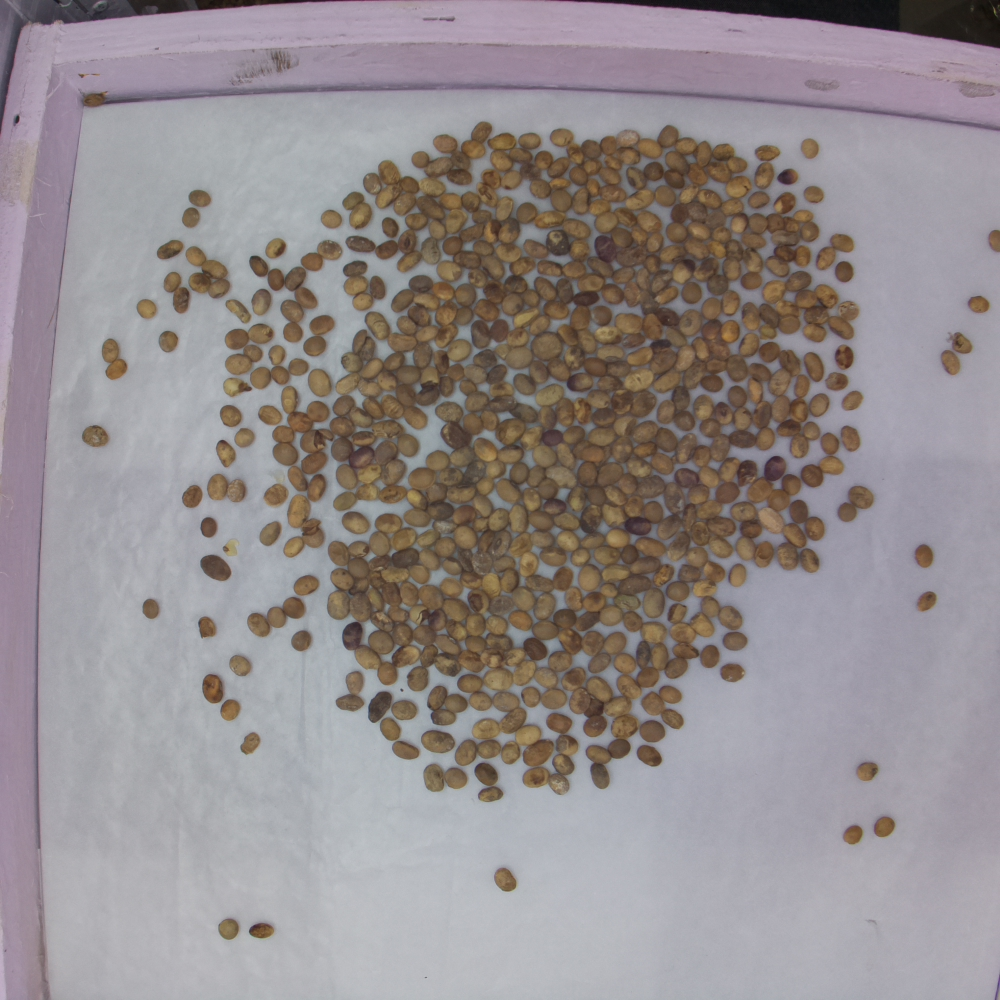damage: (672, 639, 715, 660), (200, 555, 231, 582), (441, 421, 471, 448), (523, 740, 554, 766), (776, 540, 799, 575), (368, 691, 392, 724), (533, 332, 562, 359), (288, 494, 310, 529), (301, 429, 333, 453), (744, 478, 773, 504), (667, 531, 690, 563), (549, 442, 577, 468), (665, 482, 685, 518), (422, 730, 454, 752), (611, 715, 640, 739), (497, 418, 523, 444), (650, 348, 676, 374), (355, 645, 382, 670), (418, 196, 446, 220), (365, 312, 389, 340), (558, 628, 582, 656), (547, 465, 576, 488), (484, 668, 513, 691), (665, 151, 691, 176), (326, 593, 350, 620), (691, 612, 715, 639), (849, 486, 877, 509), (498, 570, 520, 599), (203, 674, 224, 704), (770, 393, 791, 423), (589, 760, 610, 790), (376, 183, 401, 208), (656, 514, 681, 539), (625, 455, 651, 479), (633, 392, 657, 418), (577, 564, 601, 590), (540, 686, 566, 710), (720, 606, 746, 630), (454, 739, 477, 766), (472, 718, 499, 741), (500, 709, 527, 732), (676, 433, 696, 464), (446, 484, 477, 504), (645, 587, 665, 618), (435, 400, 464, 421), (185, 186, 210, 210), (708, 533, 732, 558), (588, 677, 612, 702), (679, 309, 702, 335), (474, 299, 500, 322), (530, 444, 557, 466), (476, 181, 498, 208), (532, 592, 554, 619), (512, 660, 534, 687), (636, 135, 663, 157), (372, 419, 403, 438), (506, 347, 534, 368), (563, 219, 591, 240), (341, 512, 369, 533), (392, 645, 420, 666), (350, 593, 370, 622), (707, 517, 736, 537), (815, 284, 839, 308), (806, 352, 824, 384), (784, 523, 808, 547), (641, 692, 665, 716), (633, 420, 658, 443), (639, 476, 664, 499), (447, 339, 472, 362), (446, 207, 469, 232), (561, 667, 586, 690), (754, 426, 777, 451), (760, 508, 785, 531), (626, 369, 652, 391), (436, 261, 462, 283), (700, 560, 726, 582), (387, 333, 417, 352), (379, 485, 409, 504), (730, 502, 757, 523), (390, 528, 417, 549), (434, 655, 461, 676), (288, 465, 309, 492), (640, 720, 667, 741), (424, 764, 444, 792), (941, 349, 961, 377), (769, 367, 789, 395), (546, 356, 569, 380), (454, 526, 477, 550), (694, 258, 718, 281), (761, 280, 785, 303), (481, 256, 505, 279), (374, 441, 397, 465), (226, 300, 250, 323), (248, 613, 271, 637), (512, 588, 535, 612), (638, 211, 662, 234), (952, 331, 975, 355), (639, 745, 662, 769), (487, 132, 516, 151), (634, 537, 663, 556), (631, 557, 660, 576), (753, 400, 772, 429), (273, 443, 298, 465), (657, 123, 679, 148), (798, 548, 820, 573), (610, 437, 631, 463), (739, 460, 760, 486), (820, 431, 841, 457), (655, 370, 681, 391), (548, 230, 569, 256), (414, 386, 440, 407), (409, 468, 435, 489), (563, 586, 584, 612), (582, 630, 603, 656), (818, 455, 844, 476), (915, 540, 936, 566), (656, 426, 676, 453), (727, 354, 747, 381), (311, 370, 331, 397), (580, 505, 600, 532), (626, 188, 653, 208), (585, 744, 612, 764), (471, 320, 490, 348), (754, 540, 773, 568), (574, 611, 602, 630), (492, 692, 520, 711), (534, 277, 557, 300), (461, 223, 484, 246), (392, 290, 415, 313), (419, 585, 442, 608), (475, 762, 498, 785), (265, 484, 288, 507), (717, 481, 741, 503), (435, 300, 457, 324), (498, 221, 520, 245), (335, 372, 359, 394), (289, 411, 313, 433), (302, 452, 326, 474), (671, 622, 695, 644), (495, 868, 517, 892), (759, 306, 781, 330), (595, 236, 616, 261), (524, 240, 549, 261), (350, 203, 371, 228), (294, 574, 319, 595), (522, 638, 547, 659), (829, 318, 854, 339), (556, 397, 574, 426), (572, 305, 590, 334), (612, 593, 641, 611), (461, 364, 487, 384), (693, 395, 713, 421), (514, 309, 540, 329), (421, 238, 441, 264), (82, 426, 108, 446), (332, 437, 352, 463), (348, 447, 374, 467), (641, 621, 667, 641), (523, 768, 549, 788), (744, 247, 764, 273), (724, 631, 750, 651), (606, 697, 632, 717), (511, 404, 538, 423), (526, 512, 553, 531), (587, 426, 614, 445), (741, 302, 760, 329), (252, 289, 271, 316), (224, 378, 251, 397), (546, 713, 573, 732), (786, 272, 813, 291), (606, 739, 633, 758), (524, 575, 554, 592), (600, 283, 623, 305), (502, 294, 524, 317), (435, 325, 457, 348), (381, 395, 403, 418), (467, 590, 489, 613), (369, 631, 392, 653), (295, 288, 318, 310), (603, 631, 626, 653), (614, 652, 636, 675), (780, 475, 803, 497), (619, 676, 641, 699), (473, 438, 497, 459), (578, 445, 606, 463), (671, 259, 692, 283), (705, 274, 729, 295), (381, 582, 402, 606), (356, 462, 380, 483), (593, 547, 621, 565), (736, 534, 754, 562), (699, 188, 723, 209), (771, 229, 799, 247), (808, 392, 829, 416), (700, 645, 721, 669), (513, 374, 538, 394), (399, 580, 419, 605), (436, 634, 461, 654), (599, 606, 624, 626), (516, 725, 541, 745), (685, 238, 710, 258), (747, 362, 772, 382), (573, 398, 592, 424), (491, 532, 510, 558), (631, 440, 657, 459), (685, 361, 704, 387), (654, 308, 680, 327), (395, 365, 421, 384), (384, 460, 403, 486), (217, 441, 236, 467), (601, 506, 627, 525), (706, 164, 732, 183), (486, 395, 515, 412), (616, 246, 645, 263), (626, 347, 653, 365), (571, 188, 589, 215), (342, 622, 360, 649), (572, 688, 590, 715), (756, 162, 774, 189), (598, 463, 620, 485), (657, 284, 679, 306), (331, 569, 353, 591), (282, 300, 304, 322), (551, 567, 573, 589), (549, 651, 571, 673), (496, 478, 519, 499), (688, 483, 709, 506), (483, 280, 506, 301), (379, 160, 400, 183), (359, 358, 382, 379), (329, 542, 350, 565), (319, 240, 342, 261), (307, 402, 330, 423), (582, 591, 605, 612), (654, 185, 677, 206), (727, 177, 750, 198), (764, 256, 787, 277), (838, 502, 859, 525), (693, 577, 716, 598), (662, 710, 685, 731), (521, 489, 541, 513), (511, 533, 531, 557), (482, 573, 502, 597), (675, 468, 699, 488), (727, 431, 757, 447), (490, 151, 514, 171), (443, 600, 467, 620), (461, 652, 485, 672), (408, 667, 428, 691), (225, 330, 249, 350), (555, 735, 579, 755), (695, 139, 711, 169), (780, 351, 800, 375), (968, 294, 992, 314), (681, 502, 698, 530), (791, 396, 808, 424), (537, 385, 562, 404), (538, 405, 557, 430), (530, 529, 555, 548), (710, 434, 729, 459), (330, 418, 355, 437), (209, 474, 228, 499), (338, 464, 357, 489), (790, 498, 809, 523), (579, 461, 597, 487), (678, 345, 696, 371), (693, 337, 711, 363), (701, 375, 727, 393), (537, 260, 563, 278), (454, 251, 480, 269), (425, 157, 451, 175), (392, 701, 418, 719), (532, 620, 558, 638), (620, 577, 651, 592), (335, 695, 364, 711), (652, 642, 668, 671), (563, 425, 585, 446), (614, 414, 635, 436), (708, 339, 729, 361), (342, 192, 364, 213), (409, 306, 431, 327), (362, 398, 384, 419), (333, 395, 354, 417), (190, 273, 212, 294), (668, 580, 690, 601), (588, 653, 610, 674), (663, 168, 684, 190), (747, 214, 769, 235), (666, 658, 688, 679), (638, 666, 659, 688), (719, 458, 739, 481), (456, 284, 476, 307), (515, 203, 538, 223), (548, 158, 571, 178), (404, 408, 427, 428), (285, 268, 305, 291), (304, 336, 327, 356), (261, 522, 281, 545), (534, 669, 557, 689), (687, 162, 707, 185), (790, 435, 810, 458), (805, 516, 825, 539), (856, 762, 879, 782), (521, 550, 538, 577), (577, 274, 604, 291), (374, 514, 401, 531), (774, 301, 801, 318), (836, 345, 853, 372), (794, 374, 811, 401), (770, 487, 789, 511), (645, 315, 664, 339), (652, 270, 671, 294), (589, 198, 613, 217), (594, 212, 618, 231), (343, 276, 367, 295), (412, 342, 431, 366), (310, 316, 334, 335), (258, 406, 282, 425), (509, 612, 533, 631), (741, 231, 765, 250), (677, 561, 701, 580), (701, 596, 720, 620), (509, 505, 527, 530), (767, 456, 785, 481), (544, 301, 569, 319), (535, 212, 565, 227), (356, 379, 381, 397), (406, 509, 431, 527), (484, 650, 509, 668), (431, 709, 456, 727), (157, 241, 182, 259), (202, 260, 227, 278), (249, 324, 274, 342), (226, 355, 251, 373), (457, 674, 482, 692), (659, 246, 684, 264), (777, 420, 802, 438), (309, 473, 325, 501), (567, 374, 593, 391), (723, 290, 740, 316), (656, 562, 673, 588), (564, 347, 585, 368), (471, 122, 492, 143), (651, 453, 673, 473), (613, 265, 635, 285), (507, 327, 529, 347), (441, 466, 463, 486), (430, 501, 452, 521), (419, 645, 439, 667), (377, 662, 397, 684), (105, 359, 127, 379), (284, 598, 306, 618), (221, 699, 241, 721), (553, 755, 575, 775), (625, 168, 647, 188), (774, 192, 796, 212), (802, 464, 822, 486), (703, 296, 722, 319), (615, 207, 638, 226), (397, 253, 420, 272), (472, 552, 491, 575), (644, 500, 663, 523), (469, 692, 492, 711), (521, 686, 540, 709), (831, 233, 854, 252), (721, 663, 744, 682), (597, 345, 626, 360), (346, 237, 375, 252), (381, 566, 410, 581), (600, 566, 629, 581), (636, 640, 651, 669), (555, 531, 579, 549), (594, 327, 621, 343), (578, 329, 596, 353), (562, 260, 586, 278), (450, 448, 474, 466), (417, 529, 441, 547), (626, 517, 650, 535), (587, 696, 605, 720), (730, 564, 748, 588), (660, 686, 684, 704), (498, 445, 523, 462), (540, 547, 565, 564), (715, 402, 732, 427), (696, 501, 721, 518), (510, 258, 535, 275), (429, 686, 446, 711), (102, 338, 119, 363), (803, 307, 828, 324), (919, 589, 936, 614), (521, 427, 541, 448), (665, 326, 685, 347), (395, 194, 416, 214), (420, 366, 440, 387), (398, 435, 418, 456), (391, 550, 419, 565), (446, 620, 466, 641), (391, 625, 412, 645), (486, 615, 507, 635), (380, 718, 400, 739), (445, 768, 466, 788), (251, 368, 271, 389), (282, 386, 297, 414), (235, 428, 256, 448), (230, 655, 250, 676), (549, 774, 570, 794), (800, 221, 821, 241), (611, 391, 630, 413), (528, 361, 547, 383), (465, 392, 487, 411), (465, 460, 484, 482), (734, 408, 753, 430), (698, 467, 720, 486), (684, 282, 703, 304), (552, 189, 571, 211), (427, 451, 449, 470), (370, 532, 389, 554), (688, 545, 707, 567), (554, 608, 576, 627), (688, 203, 707, 225), (707, 209, 726, 231), (804, 186, 826, 205), (838, 300, 860, 319), (842, 391, 861, 413), (554, 513, 580, 529), (600, 185, 626, 201), (446, 168, 472, 184), (487, 634, 513, 650), (173, 287, 189, 313), (568, 487, 586, 510), (657, 399, 675, 422), (722, 320, 740, 343), (588, 258, 611, 276), (398, 230, 416, 253), (432, 350, 450, 373), (419, 549, 442, 567), (346, 671, 364, 694), (357, 483, 380, 501), (625, 494, 643, 517), (502, 741, 520, 764), (673, 386, 690, 410), (741, 334, 758, 358), (415, 292, 439, 309), (477, 741, 501, 758), (605, 529, 629, 546), (794, 244, 811, 268), (595, 375, 622, 390), (393, 742, 420, 757), (463, 415, 483, 435), (489, 510, 509, 530), (560, 326, 580, 346), (624, 281, 640, 306), (461, 141, 486, 157), (408, 490, 428, 510), (372, 611, 392, 631), (183, 486, 203, 506), (218, 920, 238, 940), (623, 611, 643, 631), (643, 161, 663, 181), (689, 222, 709, 242), (803, 325, 828, 341), (748, 379, 764, 404), (606, 486, 627, 505), (461, 193, 480, 214), (396, 385, 415, 406), (388, 605, 409, 624), (209, 279, 230, 298), (266, 238, 285, 259), (301, 254, 322, 273), (159, 331, 178, 352), (334, 492, 355, 511), (725, 239, 744, 260), (723, 258, 741, 280), (432, 282, 454, 300), (599, 166, 621, 184), (375, 241, 397, 259), (341, 354, 363, 372), (351, 408, 373, 426), (467, 614, 485, 636), (445, 694, 467, 712), (713, 143, 735, 161), (876, 817, 894, 839), (584, 358, 607, 375), (587, 391, 610, 408), (591, 408, 614, 425), (475, 495, 492, 518), (433, 135, 456, 152), (273, 426, 296, 443), (732, 212, 749, 235), (773, 245, 796, 262), (818, 247, 835, 270), (779, 317, 802, 334), (420, 180, 446, 195), (478, 787, 504, 802), (344, 260, 368, 276), (229, 478, 245, 502), (755, 145, 779, 161), (476, 349, 495, 369), (675, 410, 695, 429), (570, 240, 589, 260), (581, 140, 601, 159), (221, 406, 241, 425), (284, 538, 304, 557), (796, 289, 816, 308), (758, 342, 778, 361), (604, 361, 631, 375), (510, 462, 528, 483), (587, 484, 605, 505), (639, 292, 657, 313), (490, 320, 508, 341), (501, 171, 522, 189), (520, 163, 541, 181), (530, 180, 551, 198), (376, 372, 397, 390), (442, 579, 463, 597), (368, 567, 386, 588), (249, 256, 267, 277), (303, 529, 324, 547), (241, 733, 259, 754), (619, 147, 640, 165), (666, 223, 687, 241), (528, 463, 543, 488), (351, 330, 366, 355), (268, 267, 283, 292), (248, 924, 273, 939), (479, 531, 496, 553), (453, 507, 475, 524), (704, 320, 721, 342), (410, 276, 432, 293), (413, 627, 435, 644), (493, 557, 516, 573), (496, 245, 519, 261), (551, 130, 574, 146), (405, 213, 428, 229), (347, 542, 370, 558), (622, 333, 648, 347), (578, 532, 604, 546), (729, 387, 748, 406), (137, 300, 156, 319), (670, 204, 689, 223), (616, 474, 636, 492), (530, 315, 550, 333), (506, 275, 526, 293), (557, 278, 572, 302), (397, 317, 417, 335), (436, 538, 456, 556), (408, 565, 428, 583), (182, 209, 202, 227), (164, 273, 182, 293), (284, 323, 302, 343), (293, 631, 311, 651), (691, 524, 709, 544), (741, 521, 761, 539), (709, 238, 727, 258), (801, 138, 819, 158), (836, 262, 854, 282), (742, 272, 763, 289), (456, 551, 473, 572), (410, 605, 427, 626), (464, 635, 485, 652), (669, 602, 686, 623), (504, 648, 525, 665), (722, 198, 743, 215), (610, 228, 632, 244), (496, 197, 512, 219), (439, 193, 461, 209), (369, 276, 385, 298), (417, 325, 439, 341), (383, 352, 405, 368), (353, 431, 375, 447), (617, 131, 639, 147), (777, 168, 799, 184), (636, 267, 650, 292), (518, 133, 541, 148), (538, 479, 557, 497), (701, 418, 720, 436), (592, 307, 611, 325), (443, 237, 462, 255), (482, 170, 501, 188), (348, 560, 367, 578), (187, 247, 206, 265), (712, 225, 731, 243), (764, 213, 782, 232), (482, 411, 499, 431), (486, 461, 506, 478), (472, 209, 492, 226), (429, 220, 446, 240), (364, 174, 381, 194), (438, 375, 455, 395), (269, 608, 286, 628), (680, 184, 697, 204), (828, 373, 848, 390), (543, 430, 564, 446), (477, 474, 493, 495), (650, 338, 674, 352), (382, 217, 398, 238), (269, 345, 285, 366), (544, 500, 566, 515), (484, 220, 499, 242), (510, 148, 532, 163), (443, 557, 461, 575), (844, 826, 862, 844), (523, 289, 540, 308), (571, 167, 588, 186), (535, 152, 554, 169), (601, 136, 618, 155), (451, 151, 470, 168), (322, 211, 341, 228), (353, 293, 372, 310), (272, 366, 289, 385), (142, 599, 159, 618), (199, 618, 216, 637), (780, 216, 799, 233), (568, 144, 584, 164), (201, 517, 217, 537), (631, 226, 647, 246), (804, 420, 820, 440), (694, 445, 709, 466), (368, 589, 383, 610), (727, 157, 748, 172), (487, 383, 513, 395), (430, 485, 447, 503), (400, 177, 419, 193), (290, 359, 309, 375), (570, 549, 589, 565), (486, 366, 506, 381), (473, 241, 493, 256), (370, 555, 390, 570), (429, 610, 444, 630), (622, 543, 637, 563), (362, 337, 375, 360), (470, 270, 487, 287), (573, 292, 597, 304), (457, 307, 473, 325), (584, 159, 602, 175), (412, 152, 430, 168), (674, 140, 696, 153), (244, 347, 263, 362), (707, 358, 727, 372), (460, 574, 480, 588), (750, 193, 770, 207), (302, 519, 319, 535), (647, 233, 663, 250), (605, 155, 623, 170), (446, 364, 464, 379), (458, 381, 477, 395), (758, 325, 777, 339), (587, 178, 600, 198), (473, 517, 490, 532), (435, 521, 457, 532), (353, 577, 369, 592), (600, 584, 618, 597), (493, 344, 510, 357), (551, 178, 571, 189), (990, 230, 1000, 251), (793, 211, 813, 221), (646, 257, 659, 270), (636, 322, 644, 333)
